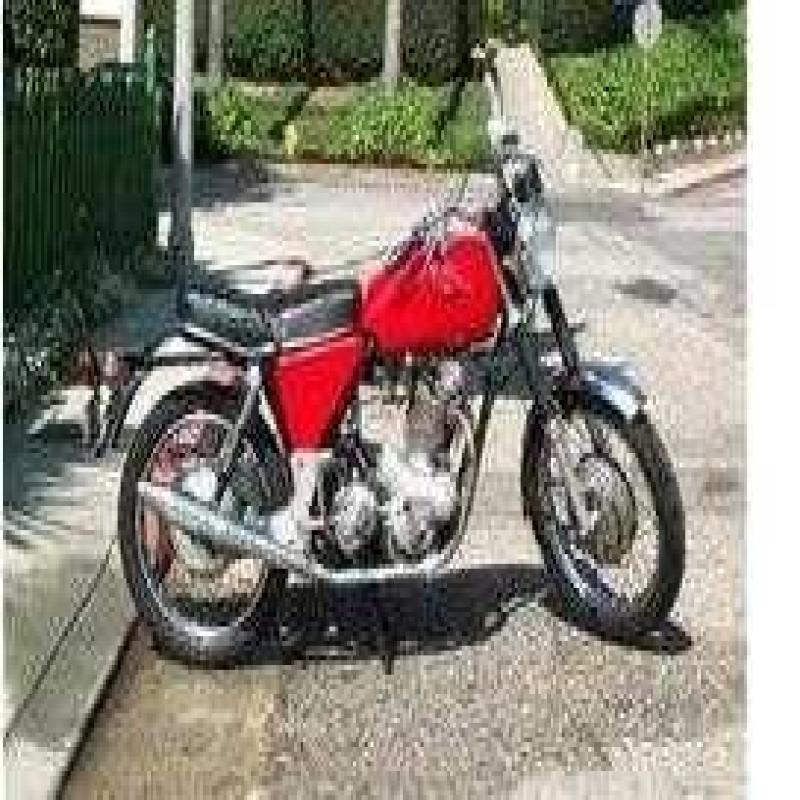bike: (113, 84, 683, 672)
